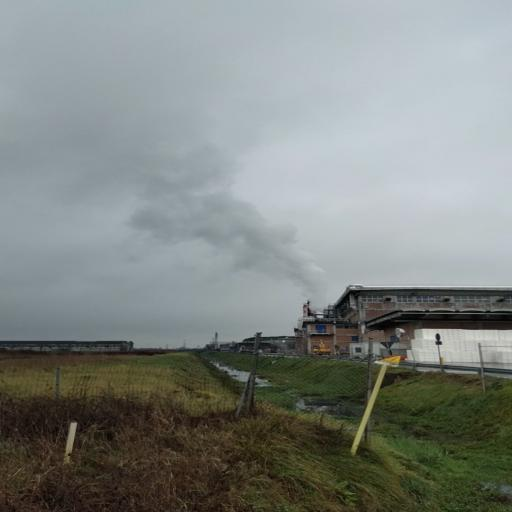leakage: (52, 124, 347, 322)
